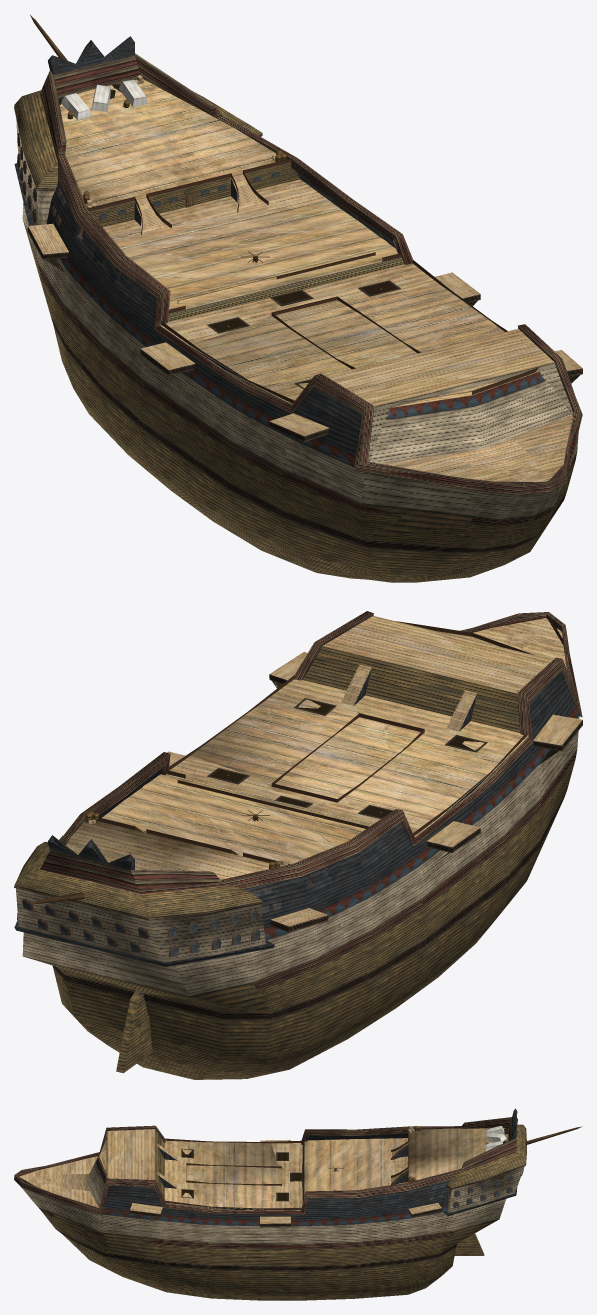
The model's file is pir_m_shp_lin_treasure.fbx.
The picture shows the model from 3 angles, top to bottom: view 1: azimuth 30°, elevation 25°; view 2: azimuth 150°, elevation 25°; view 3: azimuth 270°, elevation 25°; orthographic projection. The views are drawn at different scales.
Visible parts, largest first — view 1: deck.004, deck.003, hull_wood_bottom.001, trim_stripe_right.001, hull_wood_C.001, hull_wood_A.001, bulwark_front.002, hull_wood_A.002, hull_wood_bottom.002, hull_wood_C1, hull_wood_B.001, deck.002 (+28 smaller); view 2: deck.004, deck.003, hull_wood_bottom.001, hull_wood_bottom.002, cabin_walls, hull_wood_C.001, trim_stripe_right.001, hull_wood_C.002, bulwark_back1.002, hull_wood_A.001, wall_capt_quart_A2.001, hull_wood_B.001 (+22 smaller); view 3: deck.004, hull_wood_bottom.001, deck.003, hull_wood_C.001, hull_wood_A.001, trim_stripe_right.001, hull_wood_C.002, hull_wood_B12.002, hull_wood_C.003, hull_wood_bottom.002, hull_wood_A.002, hull_stripe_A_1.001 (+21 smaller).
Boxes of the visible parts, x1,y1,x2,y2 form: deck.004: (65,150,572,481); deck.003: (59,80,538,479); hull_wood_bottom.001: (53,325,562,576); trim_stripe_right.001: (57,75,582,494); hull_wood_C.001: (38,253,562,519); hull_wood_A.001: (41,279,564,547); bulwark_front.002: (370,383,571,463); hull_wood_A.002: (142,391,574,543); hull_wood_bottom.002: (217,512,529,582); hull_wood_C1: (82,292,474,516); hull_wood_B.001: (48,178,359,456); deck.002: (77,83,538,407); deck.004: (65,616,566,879); deck.003: (66,630,538,879); hull_wood_bottom.001: (195,849,539,1079); hull_wood_bottom.002: (53,804,561,1079); cabin_walls: (16,888,265,962); hull_wood_C.001: (250,766,540,981); trim_stripe_right.001: (63,611,582,889); hull_wood_C.002: (22,716,579,996); bulwark_back1.002: (302,646,520,732); hull_wood_A.001: (261,810,541,1012); wall_capt_quart_A2.001: (15,841,262,917); hull_wood_B.001: (243,687,575,922); deck.004: (19,1129,461,1210); hull_wood_bottom.001: (63,1235,438,1300); deck.003: (31,1128,505,1210); hull_wood_C.001: (21,1187,456,1243); hull_wood_A.001: (43,1213,449,1266); trim_stripe_right.001: (14,1125,508,1215); hull_wood_C.002: (43,1196,505,1243); hull_wood_B12.002: (104,1179,450,1220); hull_wood_C.003: (52,1212,498,1261); hull_wood_bottom.002: (90,1248,455,1298); hull_wood_A.002: (54,1217,450,1266); hull_stripe_A_1.001: (56,1229,439,1271).
Size of the model in its own units: 18022 by 16888 by 51985.
2 materials, 2 textured.
